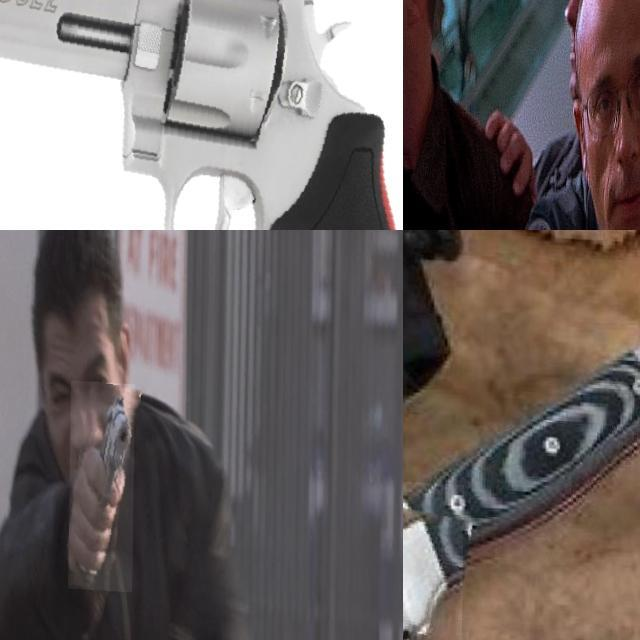-: (403, 463, 583, 640)
gun-knife-thesis - v11 Yolov5 augmented: (0, 0, 403, 230), (70, 378, 136, 589)
